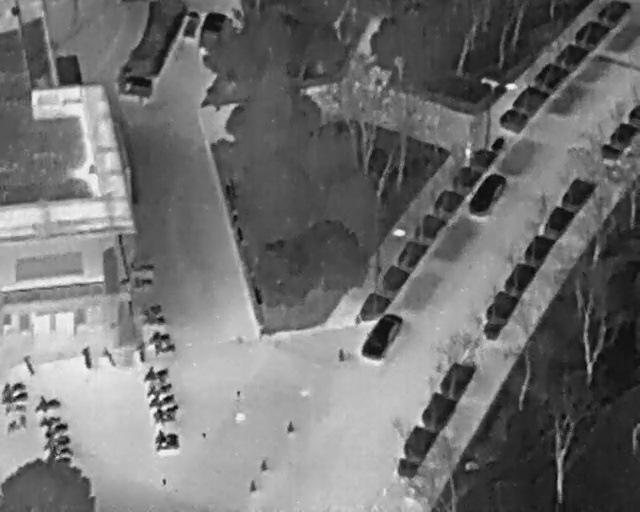Bicycle: (0, 410, 32, 439), (30, 390, 64, 416), (148, 403, 182, 427), (40, 430, 71, 454), (44, 441, 75, 464), (140, 362, 171, 383), (36, 409, 65, 431), (146, 391, 179, 410), (42, 419, 71, 440), (76, 344, 97, 372), (143, 382, 174, 399), (0, 390, 31, 406), (100, 344, 120, 368), (19, 354, 39, 377), (147, 328, 172, 346), (0, 401, 29, 416), (1, 379, 27, 395), (130, 260, 155, 276), (134, 340, 149, 364), (141, 314, 168, 327), (155, 440, 180, 454), (154, 429, 180, 442), (152, 342, 176, 356), (140, 303, 162, 318), (132, 275, 154, 289)
Car: (356, 304, 409, 368), (461, 166, 512, 224)
DontCare: (179, 7, 205, 43)
OtherVehicle: (192, 7, 233, 59), (117, 72, 155, 100)
Person: (459, 137, 475, 170)
